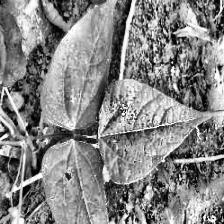ALS: (96, 79, 210, 181), (30, 0, 118, 132), (44, 136, 120, 224)
